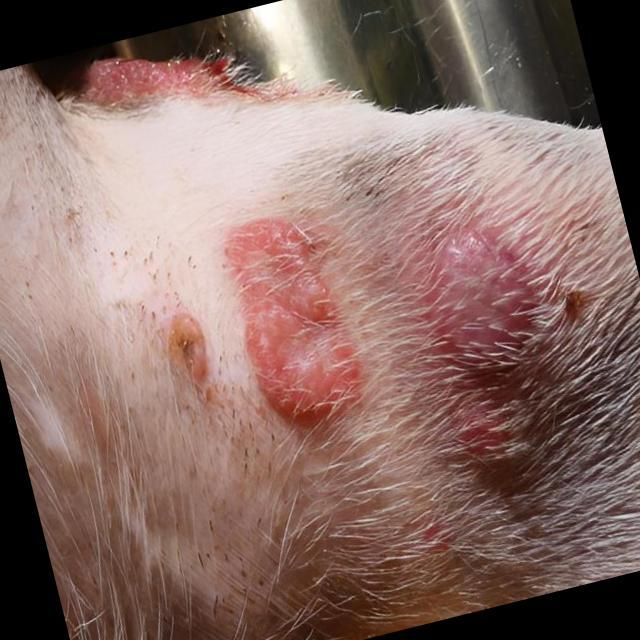allergic dermatitis: (168, 195, 366, 468), (399, 188, 551, 516)
